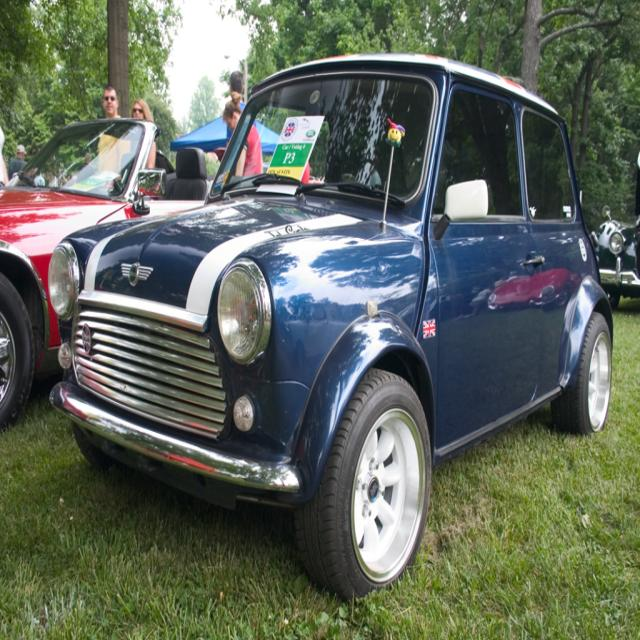car: (64, 56, 610, 593)
